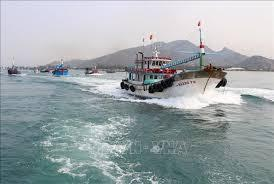Ship: (121, 21, 227, 100), (53, 60, 70, 77), (8, 58, 21, 75), (86, 67, 99, 75)
